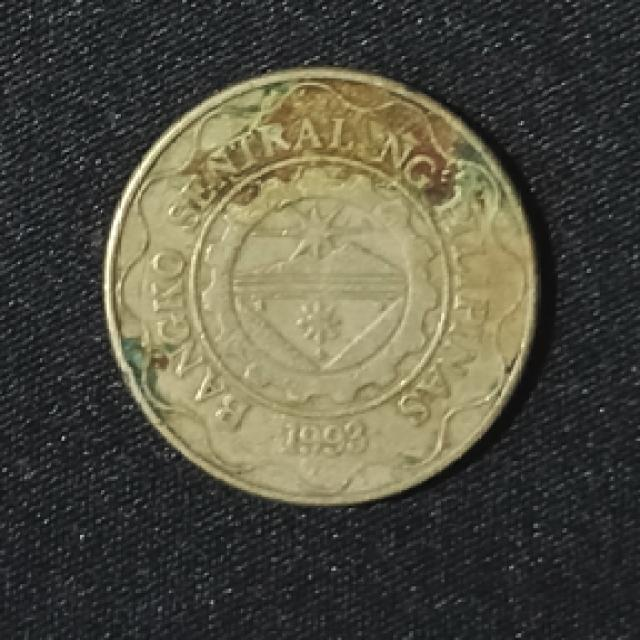5_peso: (107, 69, 533, 501)
